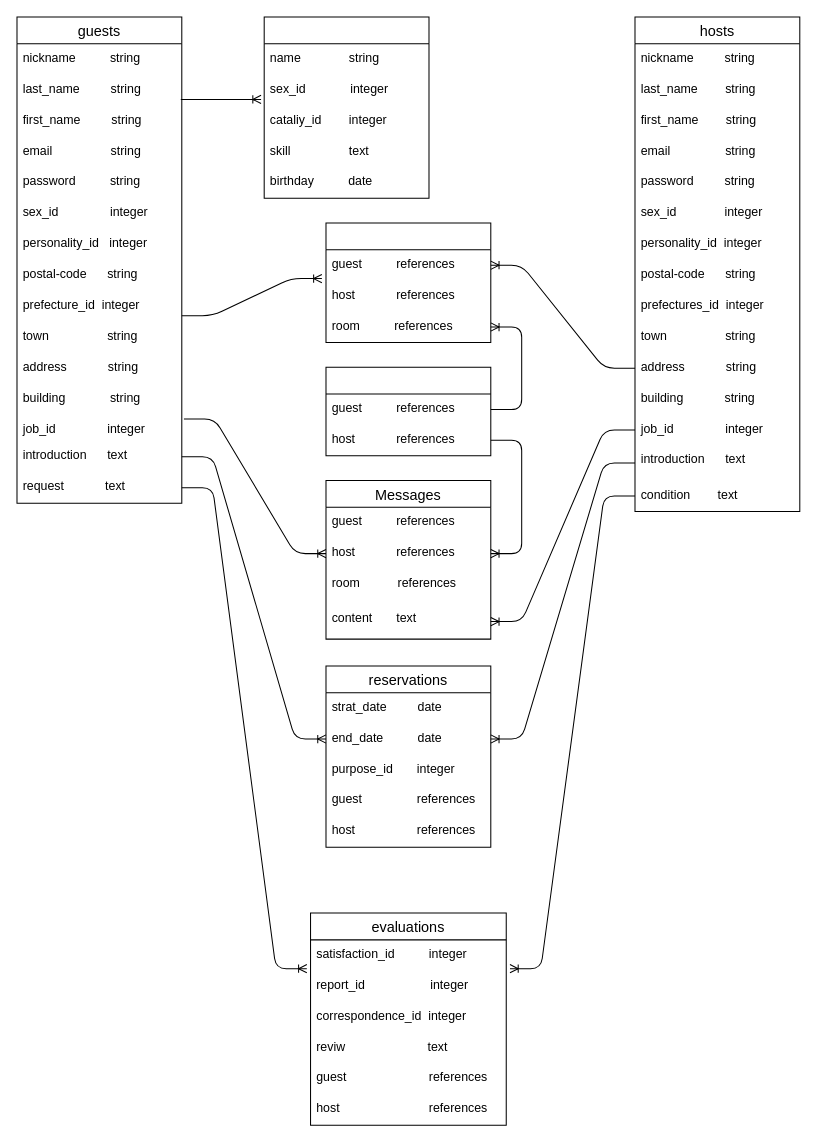
Some shapes in this 817 by 1142 pixel diagram are drawn without their labels. The shapes that lost their labels are listed below. From the top down, each one's box as (x1, y1, x2, y2) in pixels, then its label:
(263, 16, 429, 198): cats
(325, 222, 491, 342): Entries
(325, 366, 491, 456): rooms
